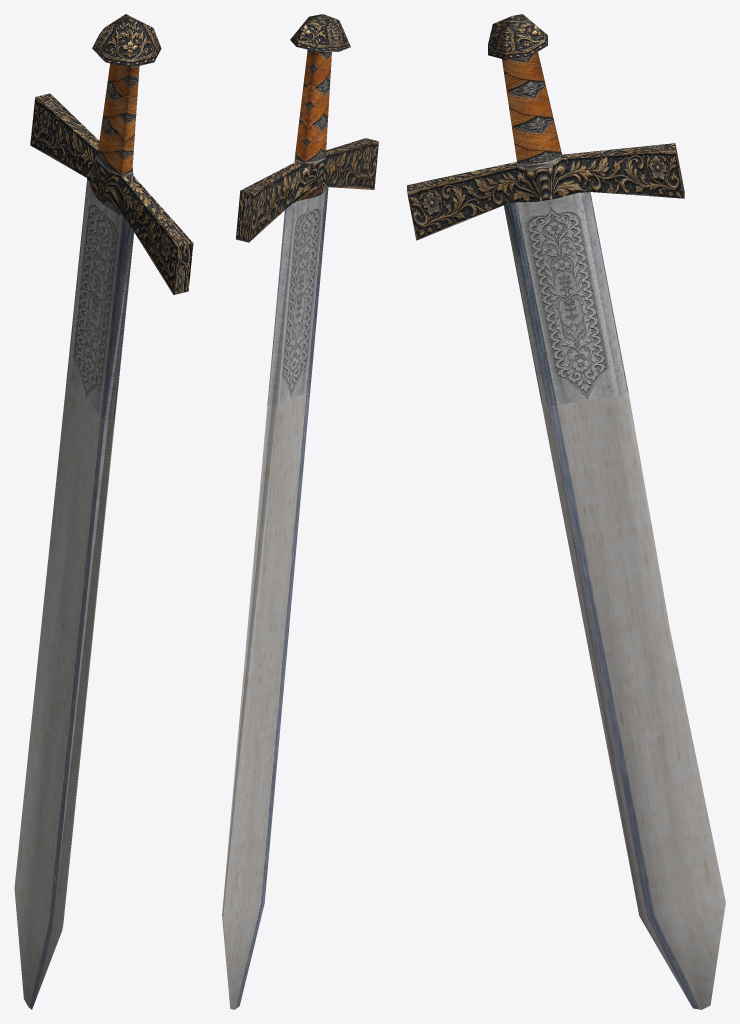
Rendered from mm9_deco_broadswordp170.glb.
The picture shows the model from 3 angles, left to right: view 1: azimuth 30°, elevation 25°; view 2: azimuth 150°, elevation 25°; view 3: azimuth 270°, elevation 25°; orthographic projection. The views are drawn at different scales.
Visible parts, largest first — view 1: Broadswordp170; view 2: Broadswordp170; view 3: Broadswordp170.
Boxes of the visible parts, box(x1,y1,x2,y2) form: Broadswordp170: box(14, 14, 193, 1009); Broadswordp170: box(222, 14, 378, 1009); Broadswordp170: box(407, 14, 725, 1009).
Size of the model in its own units: 0.0489 by 0.8816 by 0.2563.
Materials: 1 (1 with a texture image).
